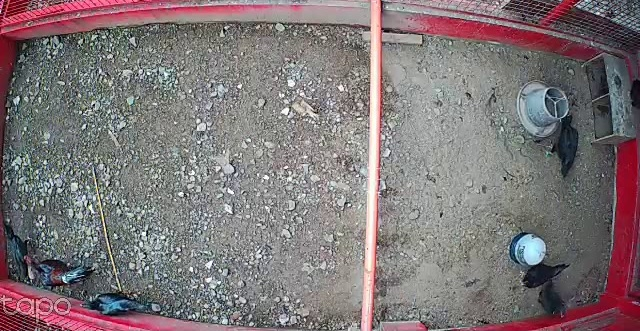Chicken: (544, 111, 581, 180), (3, 219, 34, 290), (77, 291, 148, 319), (516, 259, 574, 291), (535, 279, 571, 320)
Drinker: (509, 232, 547, 266)
Feeder: (514, 78, 569, 138)
Rooster: (23, 254, 97, 288)
